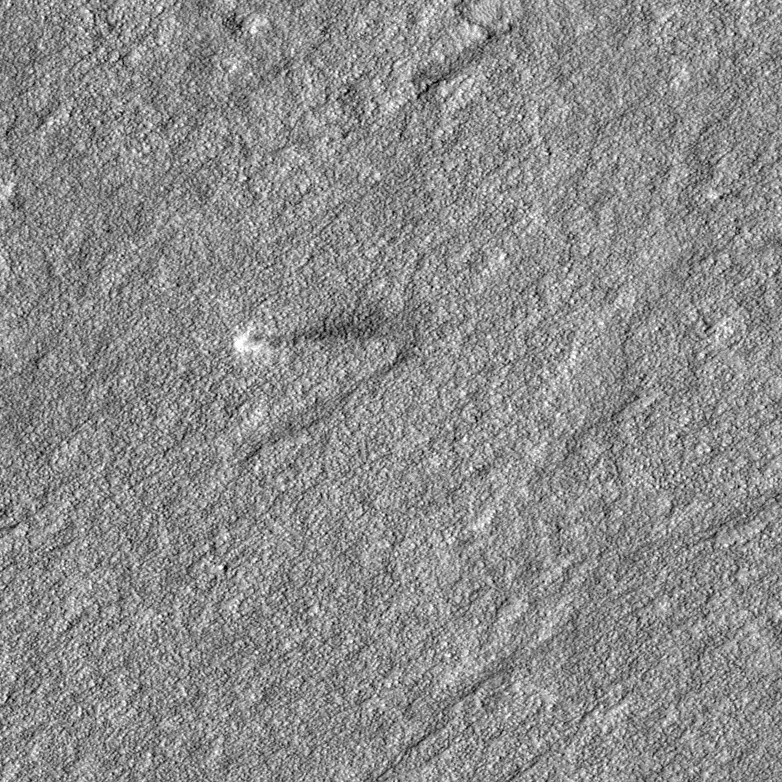dust_devil: (231, 306, 387, 358)
